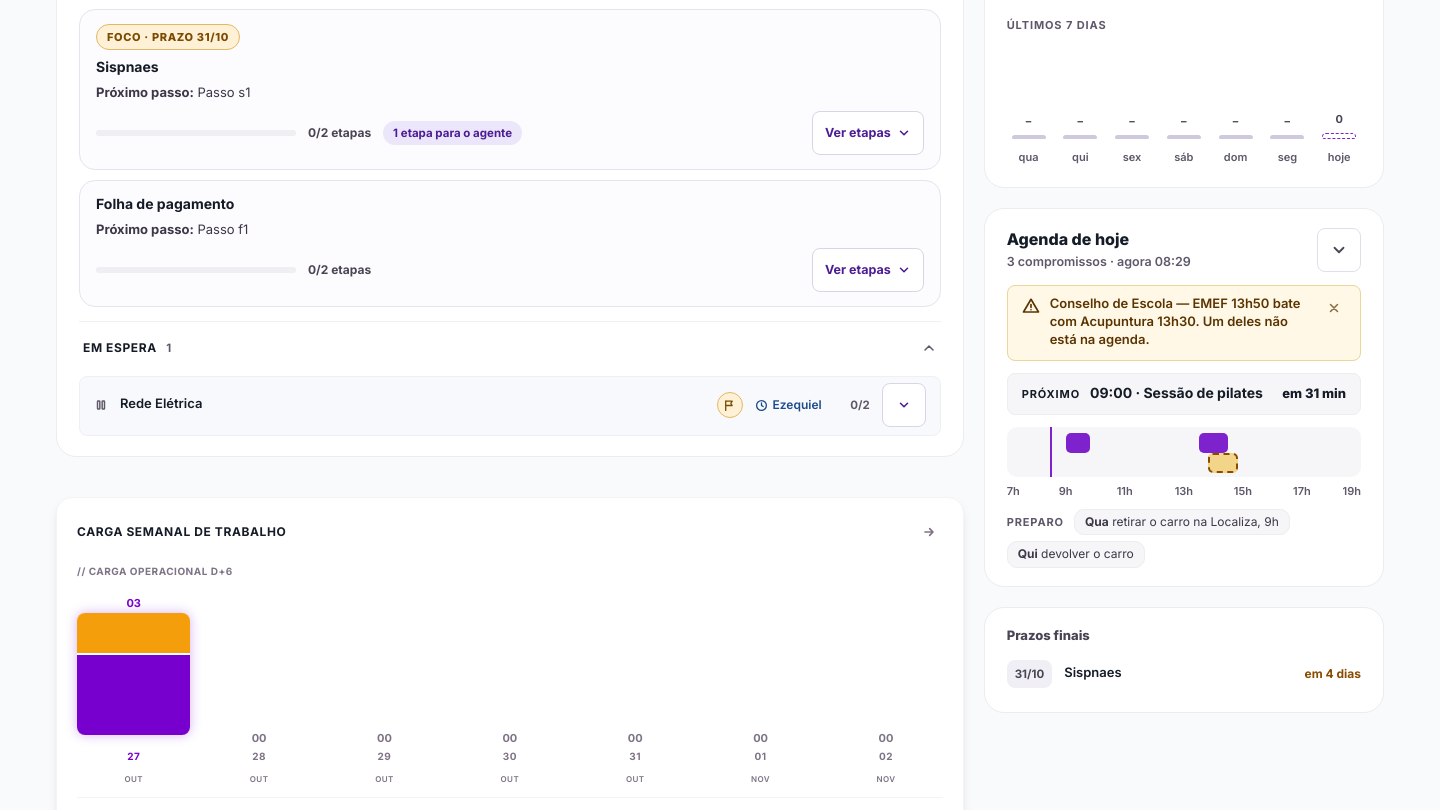
Test case: Painel do dia — com briefing_dia › Em espera compacto: uma linha por ação, com ícones e sem texto repetido
The image size is (1440, 810).
(page scrolled)
Check: the text "Rede Elétrica" is shown, box [120,396,202,412]
Check: the text "Ezequiel" is shown, box [772,397,822,413]
Click the button named "Ver etapas: Rede Elétrica" at (904, 405), box [882,383,926,427]
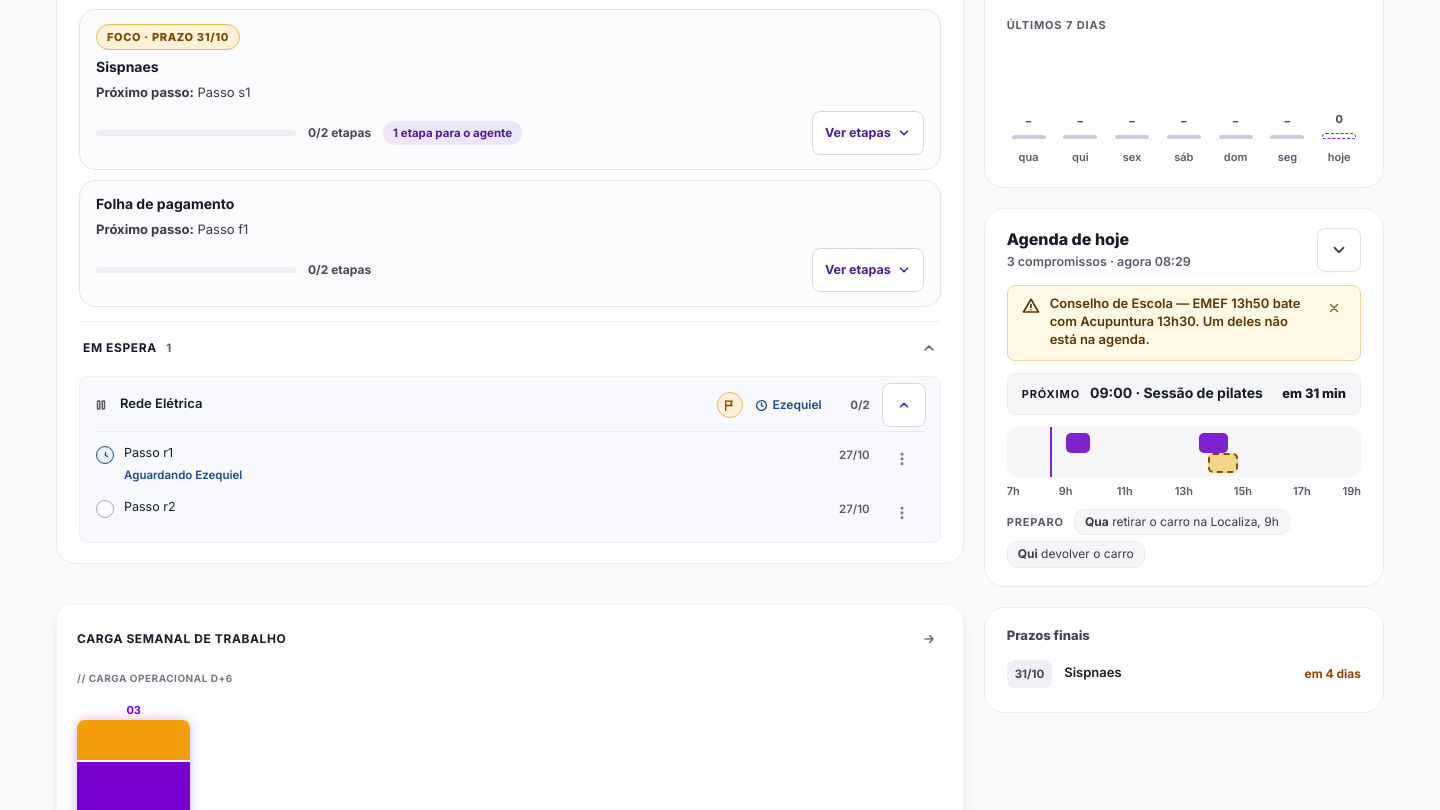
Check: the button named "Ver etapas: Rede Elétrica" is expanded, box [882,383,926,427]
Check: the text "Passo r2" is shown, box [124,499,176,517]
